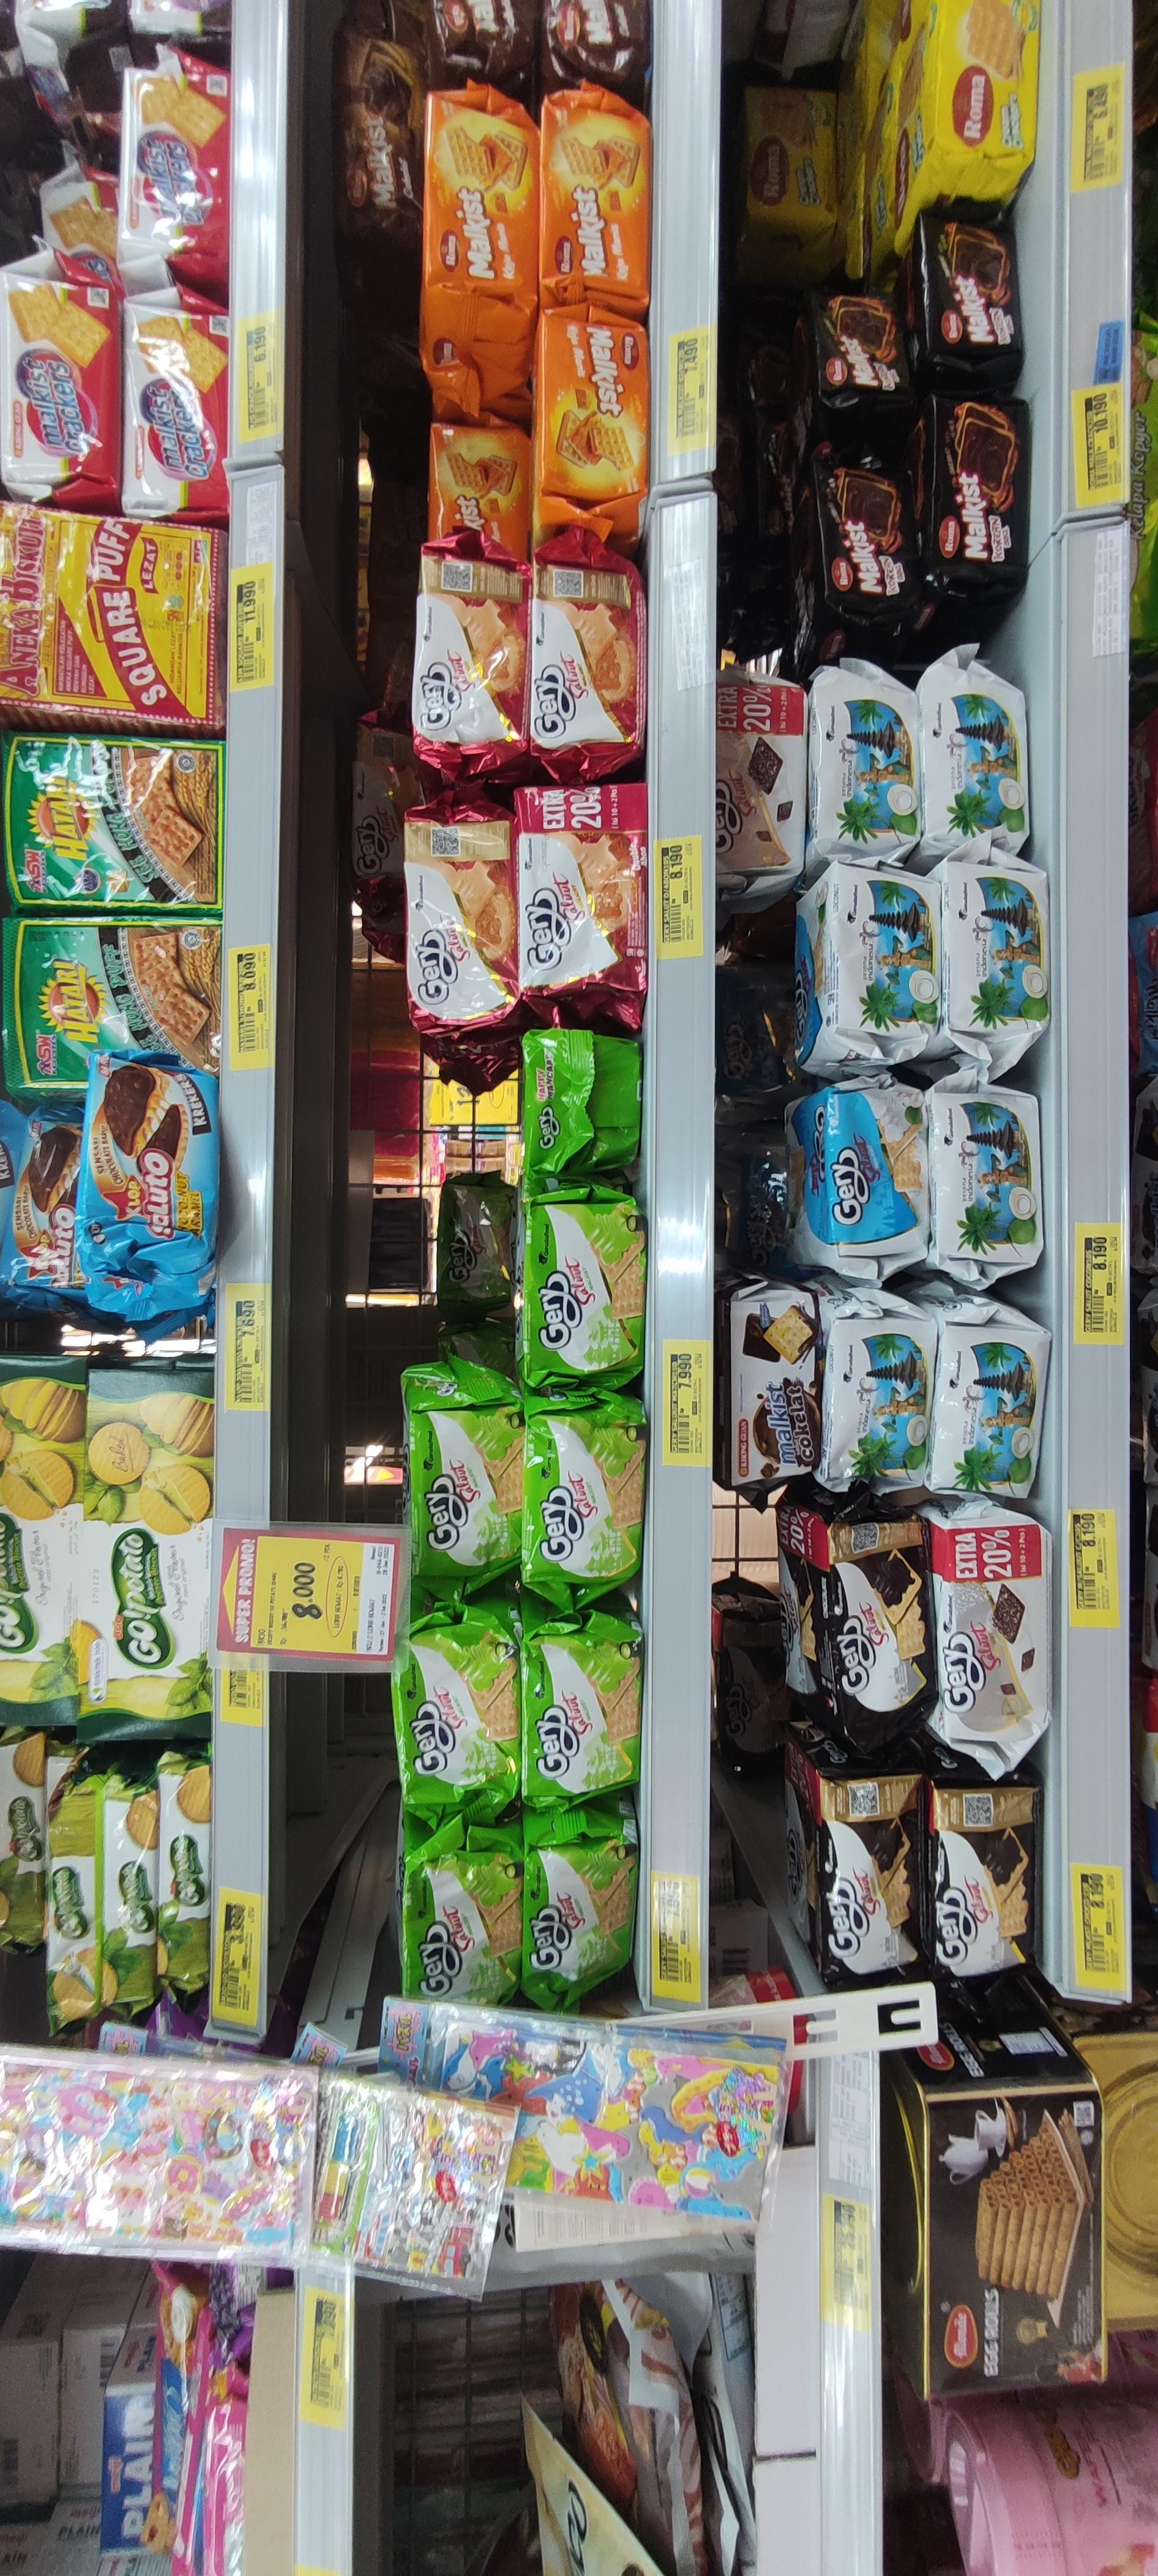90101225202101: (779, 1511, 930, 1738), (772, 1761, 921, 1988), (928, 1769, 1040, 1980)
90101225209100: (790, 1092, 935, 1260), (783, 872, 928, 1040), (800, 670, 923, 854), (936, 862, 1051, 1045), (938, 1089, 1050, 1273), (928, 672, 1033, 853), (823, 1313, 931, 1480), (938, 1324, 1050, 1485)
90101225212101: (521, 1814, 644, 1998), (394, 1817, 517, 2001), (516, 1628, 639, 1812), (389, 1630, 512, 1814), (522, 1201, 644, 1385), (396, 1390, 517, 1574), (522, 1408, 644, 1592), (517, 1028, 637, 1158), (432, 1168, 508, 1304)
90101225218101: (935, 1521, 1056, 1745), (716, 664, 803, 884)
90101225226101: (527, 545, 650, 764), (407, 792, 531, 1010), (517, 790, 639, 1010), (409, 552, 527, 767)
AimBiskuitSquarePuff: (2, 504, 222, 718)
GoPotato104Gr: (74, 1365, 217, 1741)
GoPotato60Gr: (159, 1755, 207, 1990), (43, 1796, 90, 2031), (99, 1774, 145, 2011)
HatariSeeHongPuff: (5, 734, 222, 909), (5, 912, 222, 1086)
KhonGuanMalkistCokelat: (726, 1283, 811, 1485)
KhongGuanMalkistCrackers: (5, 268, 115, 498), (120, 56, 230, 284), (120, 283, 230, 511)
KlopSalutoChocoNutCaramel: (84, 1058, 209, 1309)
RomaCreamCrackers: (920, 0, 1045, 202), (746, 80, 838, 223)
RomaMalkistKejuManis: (430, 89, 539, 402), (539, 84, 659, 301), (540, 302, 647, 529)
RomaMalkistKoreanBBQ: (928, 394, 1035, 608), (808, 453, 913, 626), (926, 217, 1028, 353), (798, 294, 898, 430)
